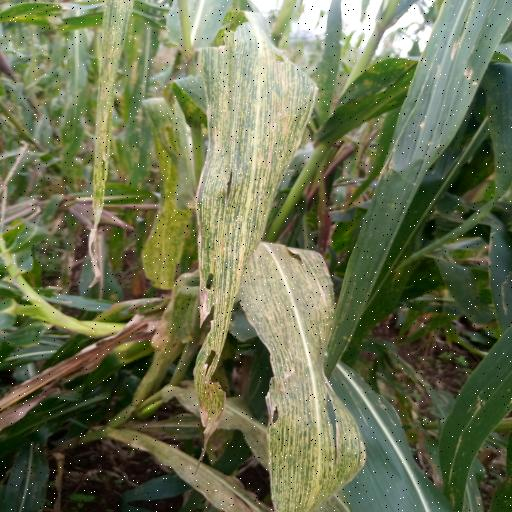Corn_Streak: (183, 19, 319, 390), (245, 238, 359, 512)
